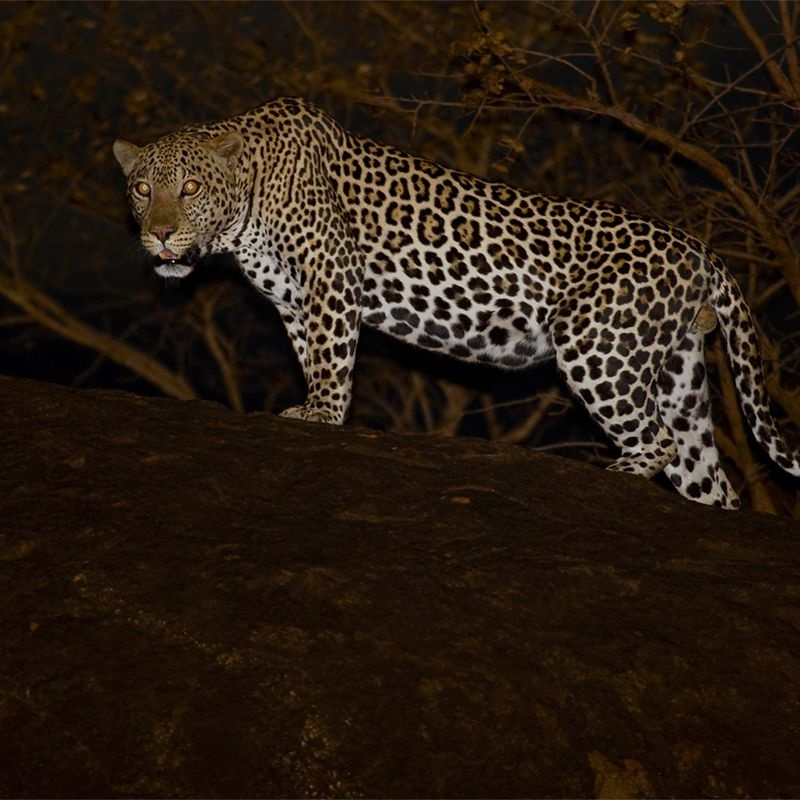leopard: (106, 87, 800, 521)
